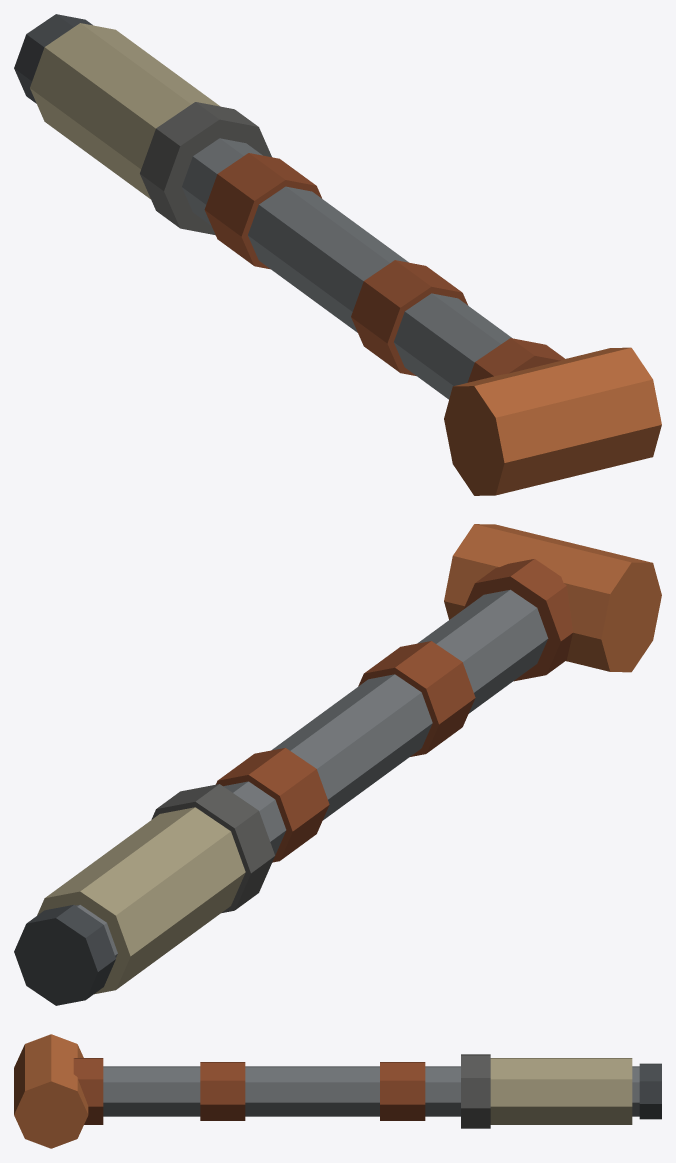
Rendered from item_pipe.glb.
The picture shows the model from 3 angles, top to bottom: view 1: azimuth 30°, elevation 25°; view 2: azimuth 150°, elevation 25°; view 3: azimuth 270°, elevation 25°; orthographic projection. The views are drawn at different scales.
Parts seen in each view (by area): view 1: pipe; view 2: pipe; view 3: pipe.
Boxes of the visible parts, x1,y1,x2,y2 form: pipe: (14,14,661,495); pipe: (14,524,661,1005); pipe: (14,1034,661,1148).
Size of the model in its own units: 0.15 by 0.106 by 0.87.
